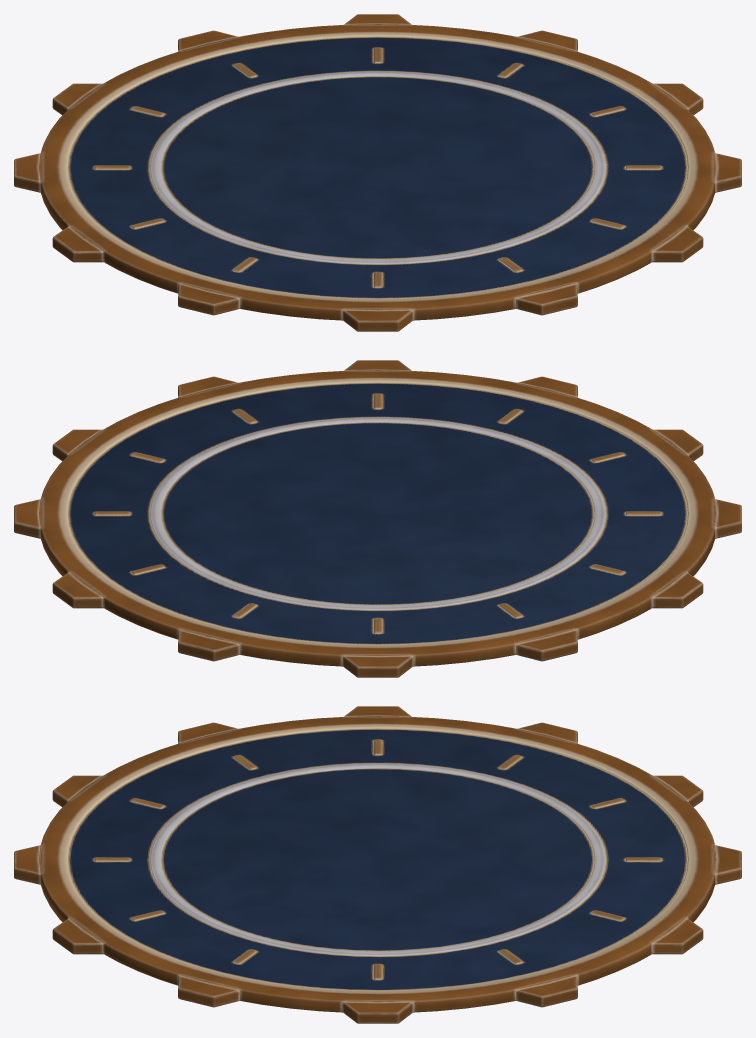
The model's file is GF_CentreGear.glb.
3 renders of one model, top to bottom at view 1: azimuth 30°, elevation 25°; view 2: azimuth 150°, elevation 25°; view 3: azimuth 270°, elevation 25°, orthographic.
Parts seen in each view (by area): view 1: GF_CentreGear; view 2: GF_CentreGear; view 3: GF_CentreGear.
Part boxes in pixels (x1,y1,x2,y2): GF_CentreGear: (14, 14, 741, 331); GF_CentreGear: (14, 360, 741, 677); GF_CentreGear: (14, 706, 741, 1023).
Bounding box in the file's own units: 7.4 × 0.133 × 7.4.
Materials: 4 (4 with a texture image).
